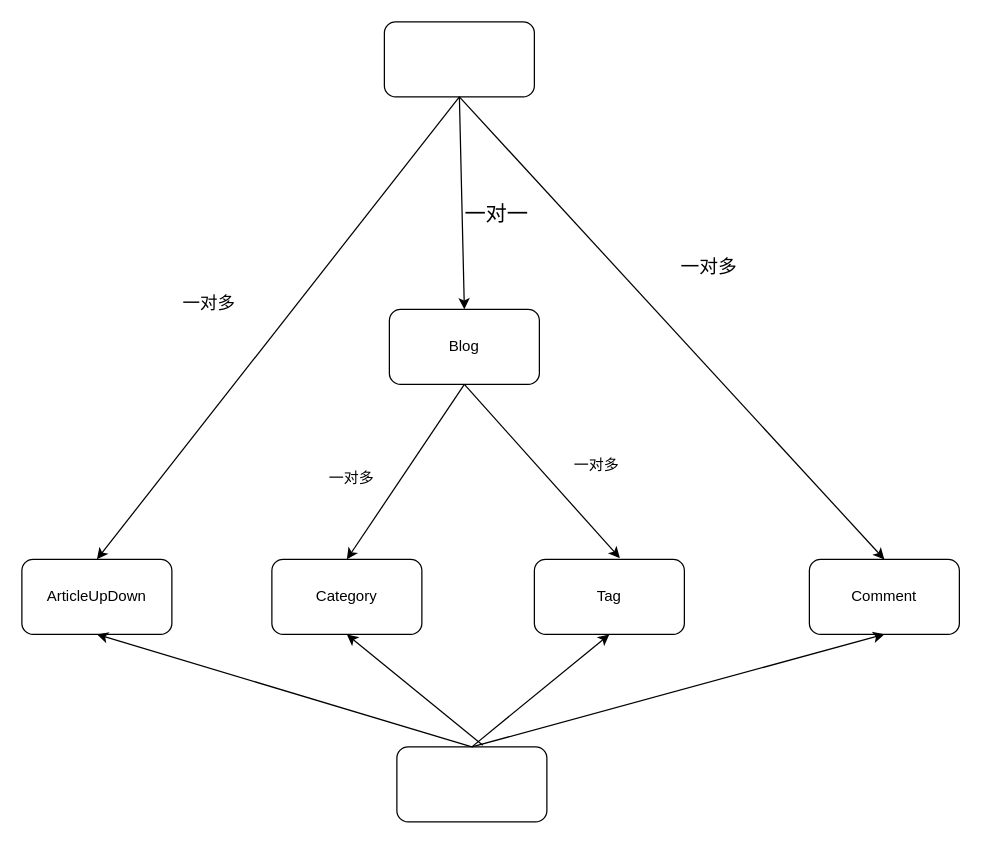
This 981x844 diagram has some shape labels left out. Each missing label, with the centre of its shape:
Article: point (471, 784)
UserInfo: point (458, 59)
